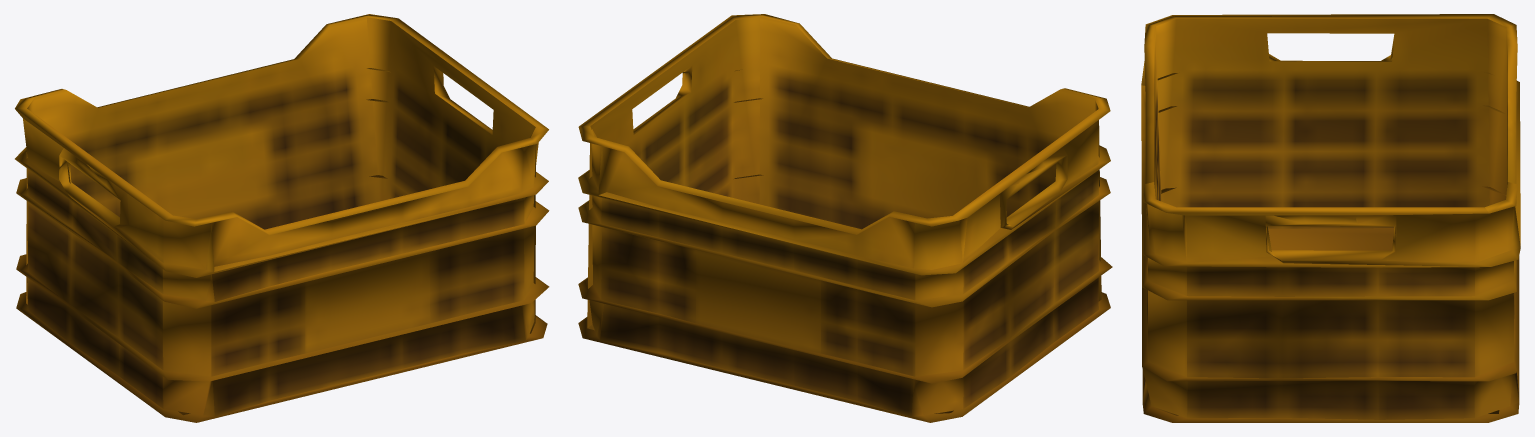
File: crate_plastic_yellow_lod1.glb
3 renders of one model, left to right at view 1: azimuth 30°, elevation 25°; view 2: azimuth 150°, elevation 25°; view 3: azimuth 270°, elevation 25°, orthographic. The views are drawn at different scales.
Visible parts, largest first — view 1: crate_plastic_yellow.001; view 2: crate_plastic_yellow.001; view 3: crate_plastic_yellow.001.
Part boxes in pixels (x1,y1,x2,y2): crate_plastic_yellow.001: (15,14,549,422); crate_plastic_yellow.001: (578,14,1112,422); crate_plastic_yellow.001: (1141,14,1520,422).
Size of the model in its own units: 0.5055 by 0.2523 by 0.4056.
Materials: 1 (1 with a texture image).
